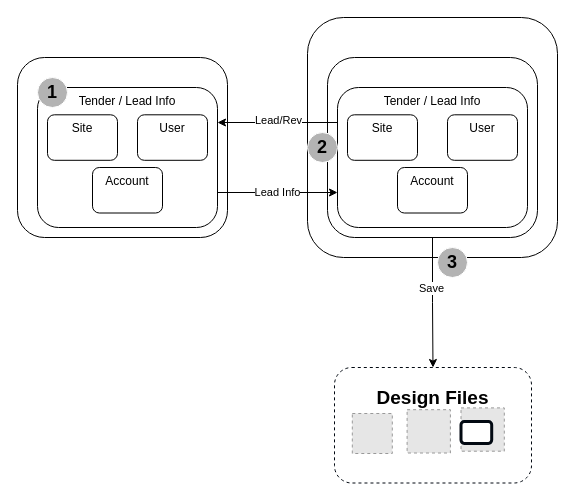
This 575x501 diagram has some shape labels left out. Grey dashed boxes stand in for pictures. Each missing label, with the box of its shape:
Anthill: (16, 56, 228, 238)
Design: (326, 56, 538, 238)
Fusion: (306, 16, 558, 258)
ROM: (459, 420, 493, 444)
